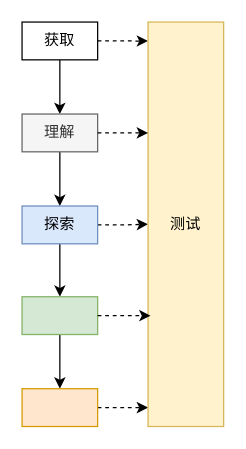
Image size: 246x449. Some labels were removed from this diagram. Here are the shapes that lost their labels. From the top down, the centre of each, then its label:
At [59,315]: "调试".
At [59,407]: "应用".
